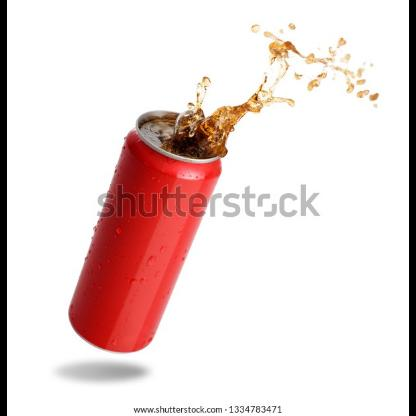Lid_Open: (148, 99, 207, 159)
Tin_Can: (62, 106, 228, 356)
